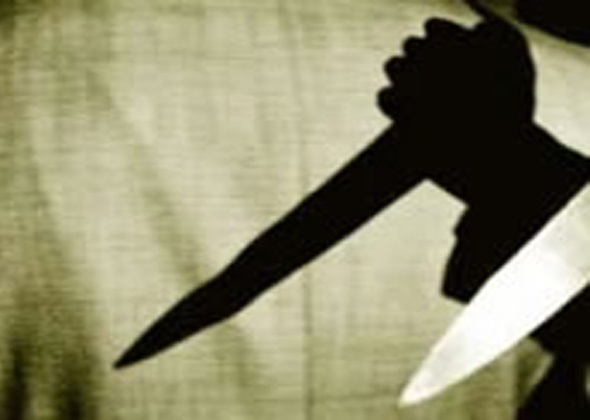knife: (385, 175, 590, 416)
